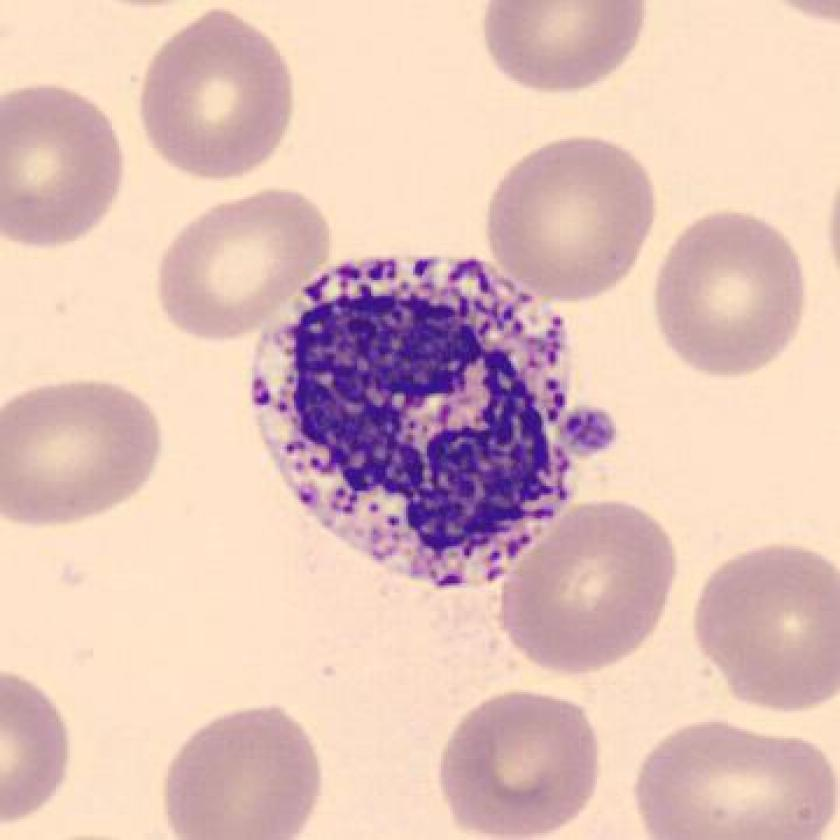basophil: (244, 251, 594, 596)
